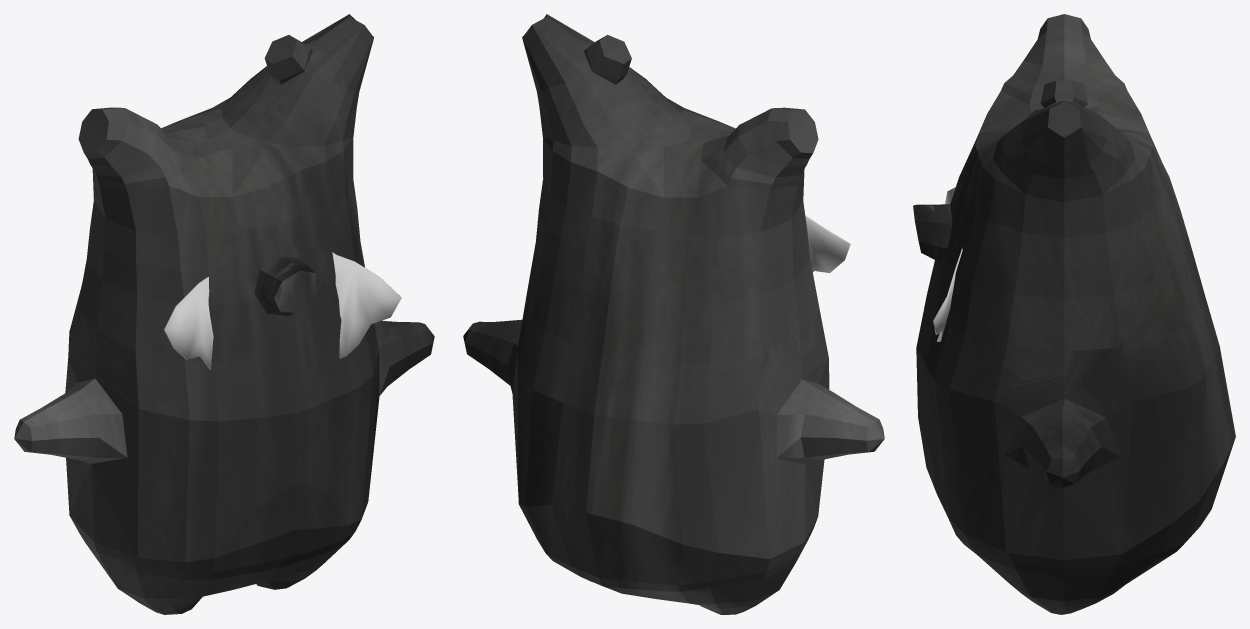
File: frame_0002.obj
The picture shows the model from 3 angles, left to right: view 1: azimuth 30°, elevation 25°; view 2: azimuth 150°, elevation 25°; view 3: azimuth 270°, elevation 25°; orthographic projection.
Parts seen in each view (by area): view 1: korok, leaf, nose; view 2: korok, leaf; view 3: korok, nose, leaf.
Part boxes in pixels (x1,y1,x2,y2): korok: (14,14,434,614); leaf: (163,252,401,369); nose: (254,256,320,315); korok: (463,14,884,614); leaf: (805,215,850,273); korok: (916,14,1235,614); nose: (913,204,952,262); leaf: (933,187,962,341).
Size of the model in its own units: 1.85 by 2.32 by 1.24.
